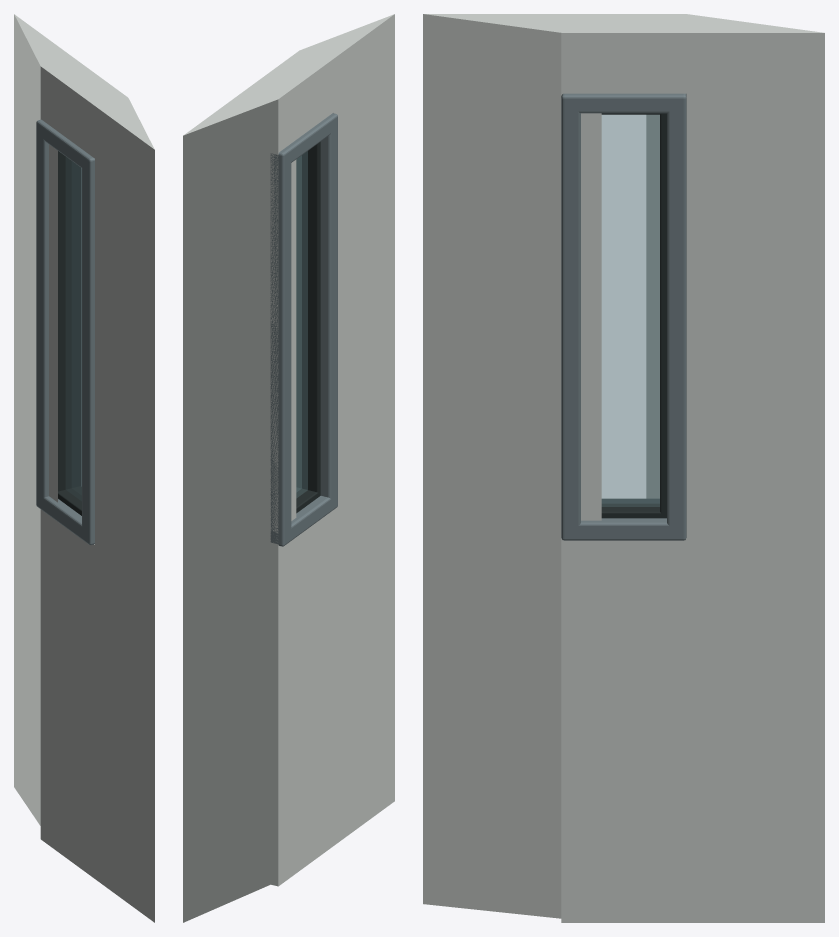
File: cabin_window_short.glb
The picture shows the model from 3 angles, left to right: view 1: azimuth 30°, elevation 25°; view 2: azimuth 150°, elevation 25°; view 3: azimuth 270°, elevation 25°; orthographic projection. The views are drawn at different scales.
Visible parts, largest first — view 1: Wall left jamb.003, Wall right jamb.003, Wall below window.003, Rubber gasket upright.007, Transparent glazing.003, Window frame upright.007, Window frame upright.006, Wall header.003, Window frame horizontal.007, Window frame horizontal.006, Rubber gasket horizontal.006; view 2: Wall right jamb.003, Wall left jamb.003, Wall below window.003, Rubber gasket upright.006, Window frame upright.007, Window frame upright.006, Wall header.003, Transparent glazing.003, Window frame horizontal.007, Window frame horizontal.006; view 3: Wall left jamb.003, Wall right jamb.003, Wall below window.003, Transparent glazing.003, Wall header.003, Window frame upright.007, Window frame upright.006, Rubber gasket upright.007, Window frame horizontal.006, Window frame horizontal.007, Rubber gasket horizontal.006.
Part boxes in pixels (x1,y1,x2,y2): Wall left jamb.003: [95, 85, 154, 922]; Wall right jamb.003: [14, 14, 73, 851]; Wall below window.003: [40, 509, 94, 878]; Rubber gasket upright.007: [58, 151, 80, 491]; Transparent glazing.003: [66, 157, 81, 500]; Window frame upright.007: [36, 124, 81, 510]; Window frame upright.006: [82, 157, 94, 544]; Wall header.003: [40, 58, 120, 158]; Window frame horizontal.007: [36, 119, 94, 172]; Window frame horizontal.006: [36, 494, 94, 544]; Rubber gasket horizontal.006: [58, 486, 81, 515]; Wall right jamb.003: [183, 86, 296, 922]; Wall left jamb.003: [283, 14, 394, 845]; Wall below window.003: [270, 510, 333, 886]; Rubber gasket upright.006: [296, 142, 320, 492]; Window frame upright.007: [270, 153, 291, 546]; Window frame upright.006: [320, 117, 337, 510]; Wall header.003: [244, 52, 333, 152]; Transparent glazing.003: [296, 151, 307, 497]; Window frame horizontal.007: [270, 113, 337, 167]; Window frame horizontal.006: [270, 496, 335, 546]; Wall left jamb.003: [423, 14, 601, 922]; Wall right jamb.003: [646, 14, 824, 922]; Wall below window.003: [561, 538, 686, 922]; Transparent glazing.003: [601, 114, 659, 506]; Wall header.003: [561, 14, 686, 93]; Window frame upright.007: [667, 98, 686, 540]; Window frame upright.006: [561, 98, 580, 539]; Rubber gasket upright.007: [660, 113, 666, 518]; Window frame horizontal.006: [561, 518, 686, 540]; Window frame horizontal.007: [561, 93, 686, 113]; Rubber gasket horizontal.006: [601, 498, 661, 518].
Bounding box in the file's own units: 0.13 × 2.2 × 0.9.
